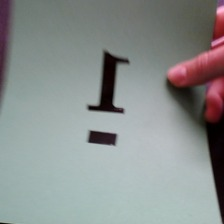green1: (80, 44, 138, 154)
